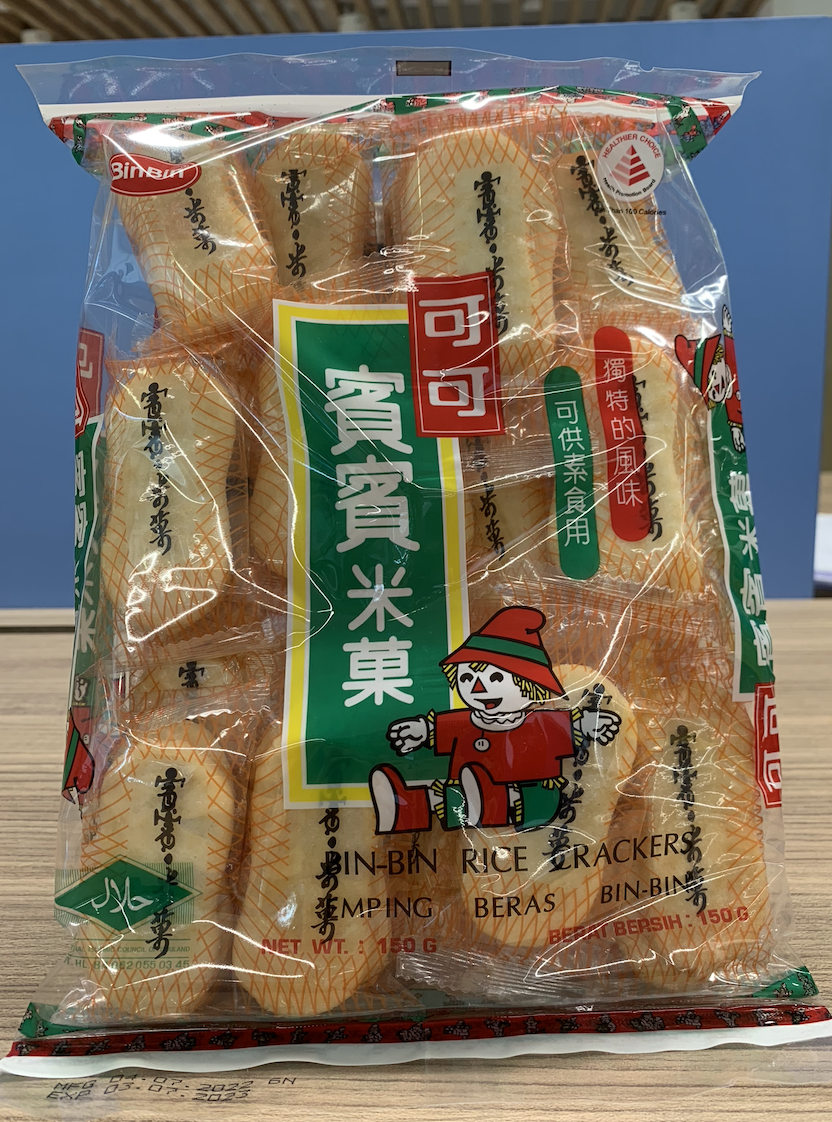crackers_100g-199g: (81, 117, 762, 1004)
